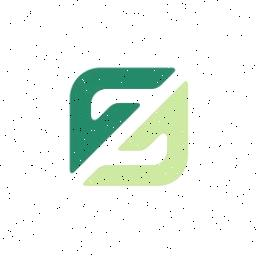z: (86, 86, 174, 170)
